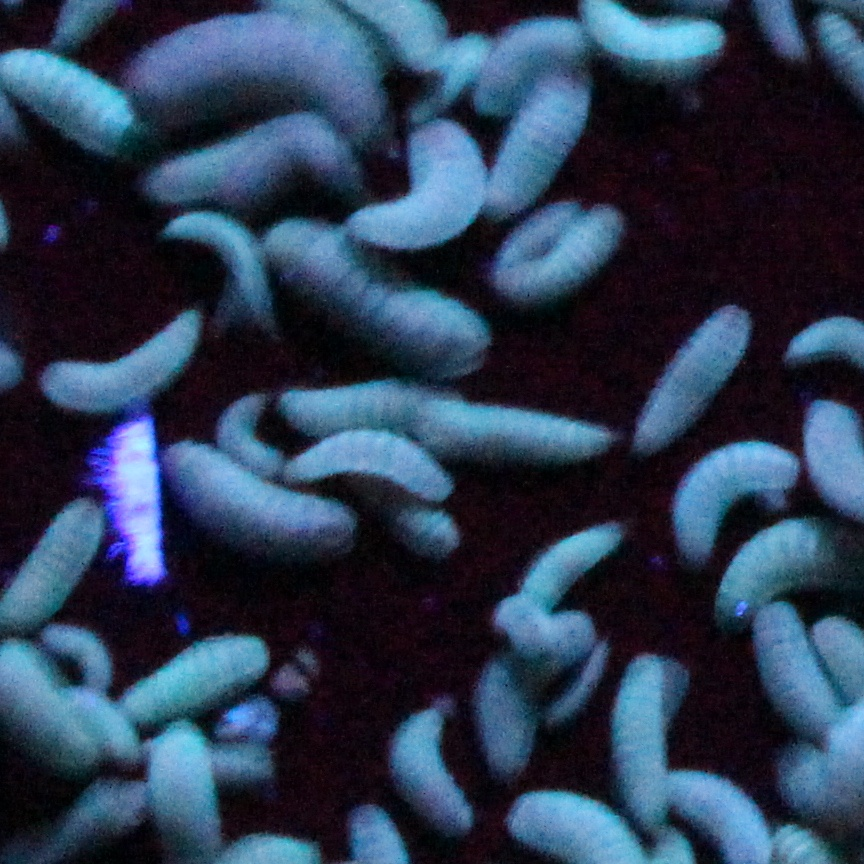larve: (260, 213, 490, 375), (121, 20, 381, 130), (273, 376, 599, 459), (157, 432, 353, 558), (34, 284, 206, 420), (610, 284, 746, 448), (483, 63, 609, 222), (338, 128, 493, 254), (146, 126, 370, 208), (666, 424, 795, 562), (741, 595, 849, 755), (486, 196, 626, 307), (275, 427, 460, 509), (603, 653, 684, 839), (124, 629, 278, 725), (386, 698, 484, 845), (509, 518, 629, 620)
